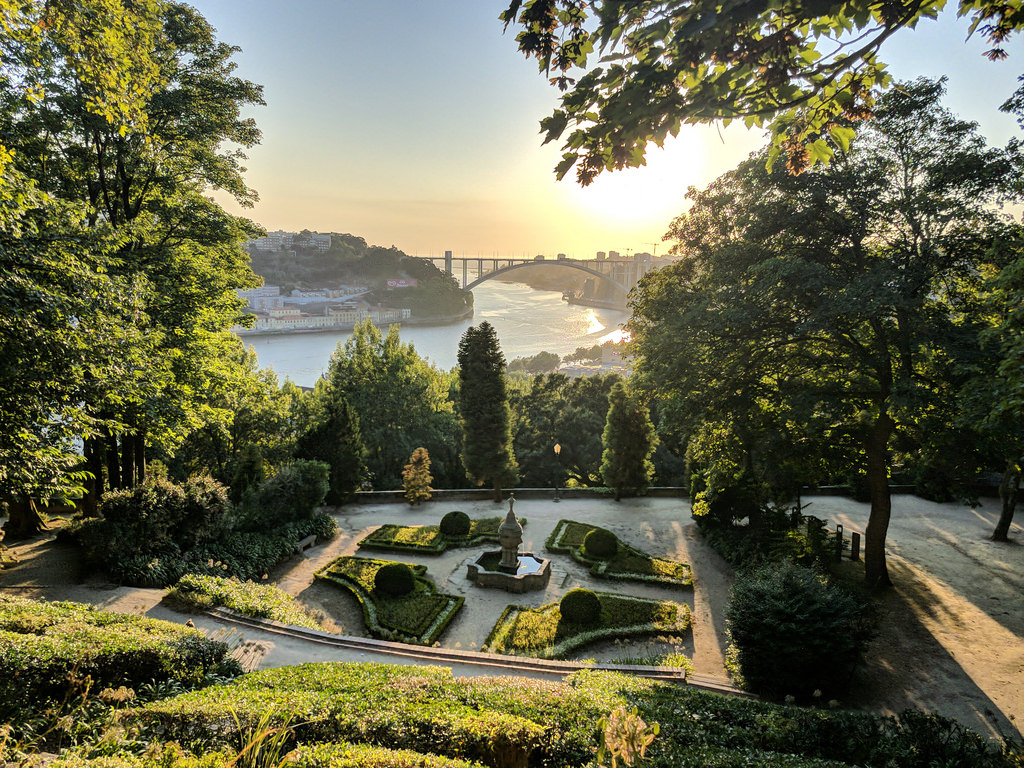arrabida: (410, 249, 649, 306)
